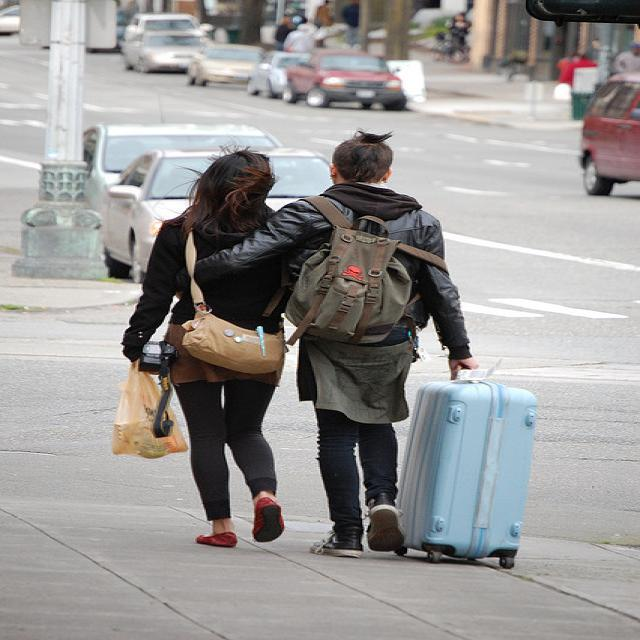Vehicle: (103, 144, 335, 281), (81, 122, 282, 216), (279, 49, 408, 111), (579, 72, 640, 196), (122, 31, 215, 75), (184, 42, 264, 86), (244, 52, 306, 98), (122, 13, 207, 41), (0, 5, 22, 35)
